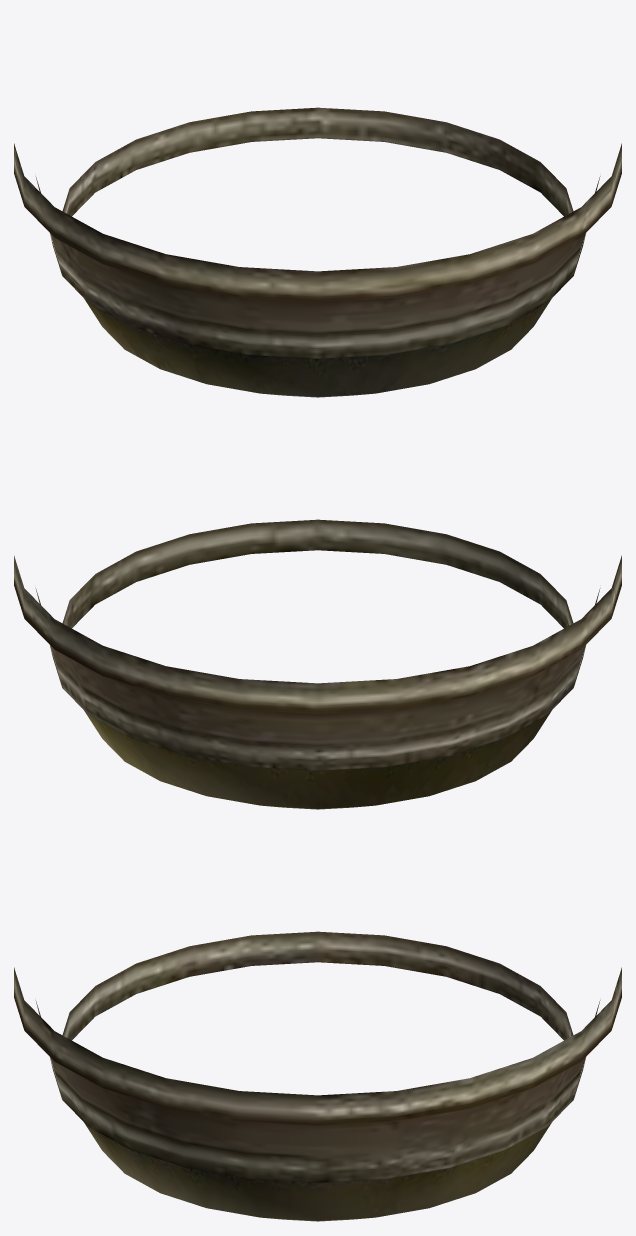
Rendered from light_domelight02_off.glb.
3 views of the same model, one above another, from view 1: azimuth 30°, elevation 25°; view 2: azimuth 150°, elevation 25°; view 3: azimuth 270°, elevation 25° (orthographic).
Visible parts, largest first — view 1: 0_light_domelight02_off; view 2: 0_light_domelight02_off; view 3: 0_light_domelight02_off.
Part boxes in pixels (box(x1,y1,x2,y2)): 0_light_domelight02_off: box(14, 107, 621, 397); 0_light_domelight02_off: box(14, 519, 621, 809); 0_light_domelight02_off: box(14, 931, 621, 1221).
Size of the model in its own units: 0.4572 by 0.1785 by 0.4572.
Materials: 1 (1 with a texture image).
